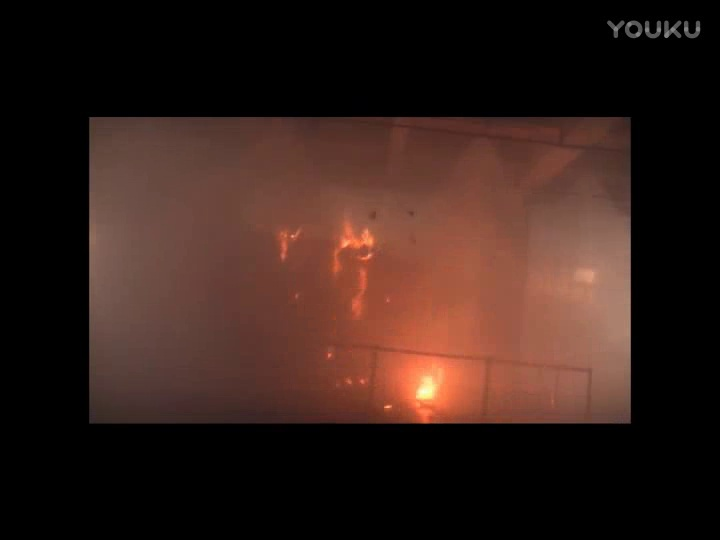fire: (330, 206, 377, 328), (267, 217, 304, 267), (412, 365, 443, 405)
